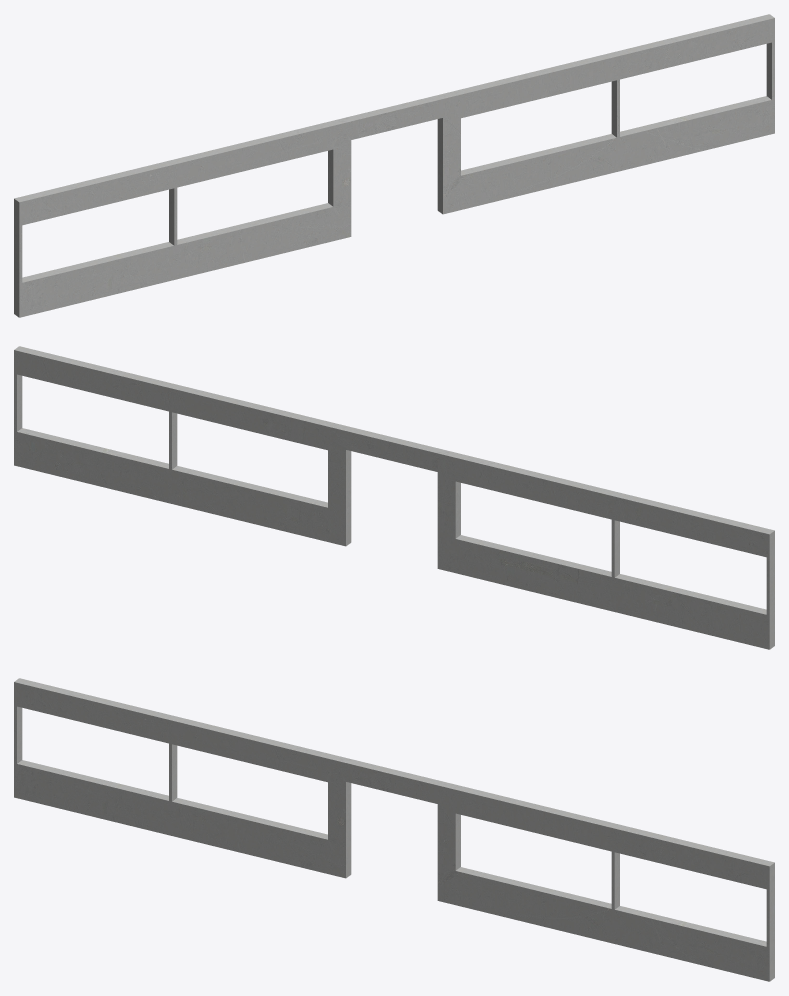
The model's file is BridgeWall1.FBX.
3 views of the same model, one above another, from view 1: azimuth 30°, elevation 25°; view 2: azimuth 150°, elevation 25°; view 3: azimuth 330°, elevation 25° (orthographic).
Visible parts, largest first — view 1: BridgeWall1; view 2: BridgeWall1; view 3: BridgeWall1.
Part boxes in pixels (left/top/right/bottom): BridgeWall1: left=14, top=14, right=774, bottom=317; BridgeWall1: left=14, top=346, right=774, bottom=649; BridgeWall1: left=14, top=678, right=774, bottom=981.
Bounding box in the file's own units: 2454 × 30 × 358.
